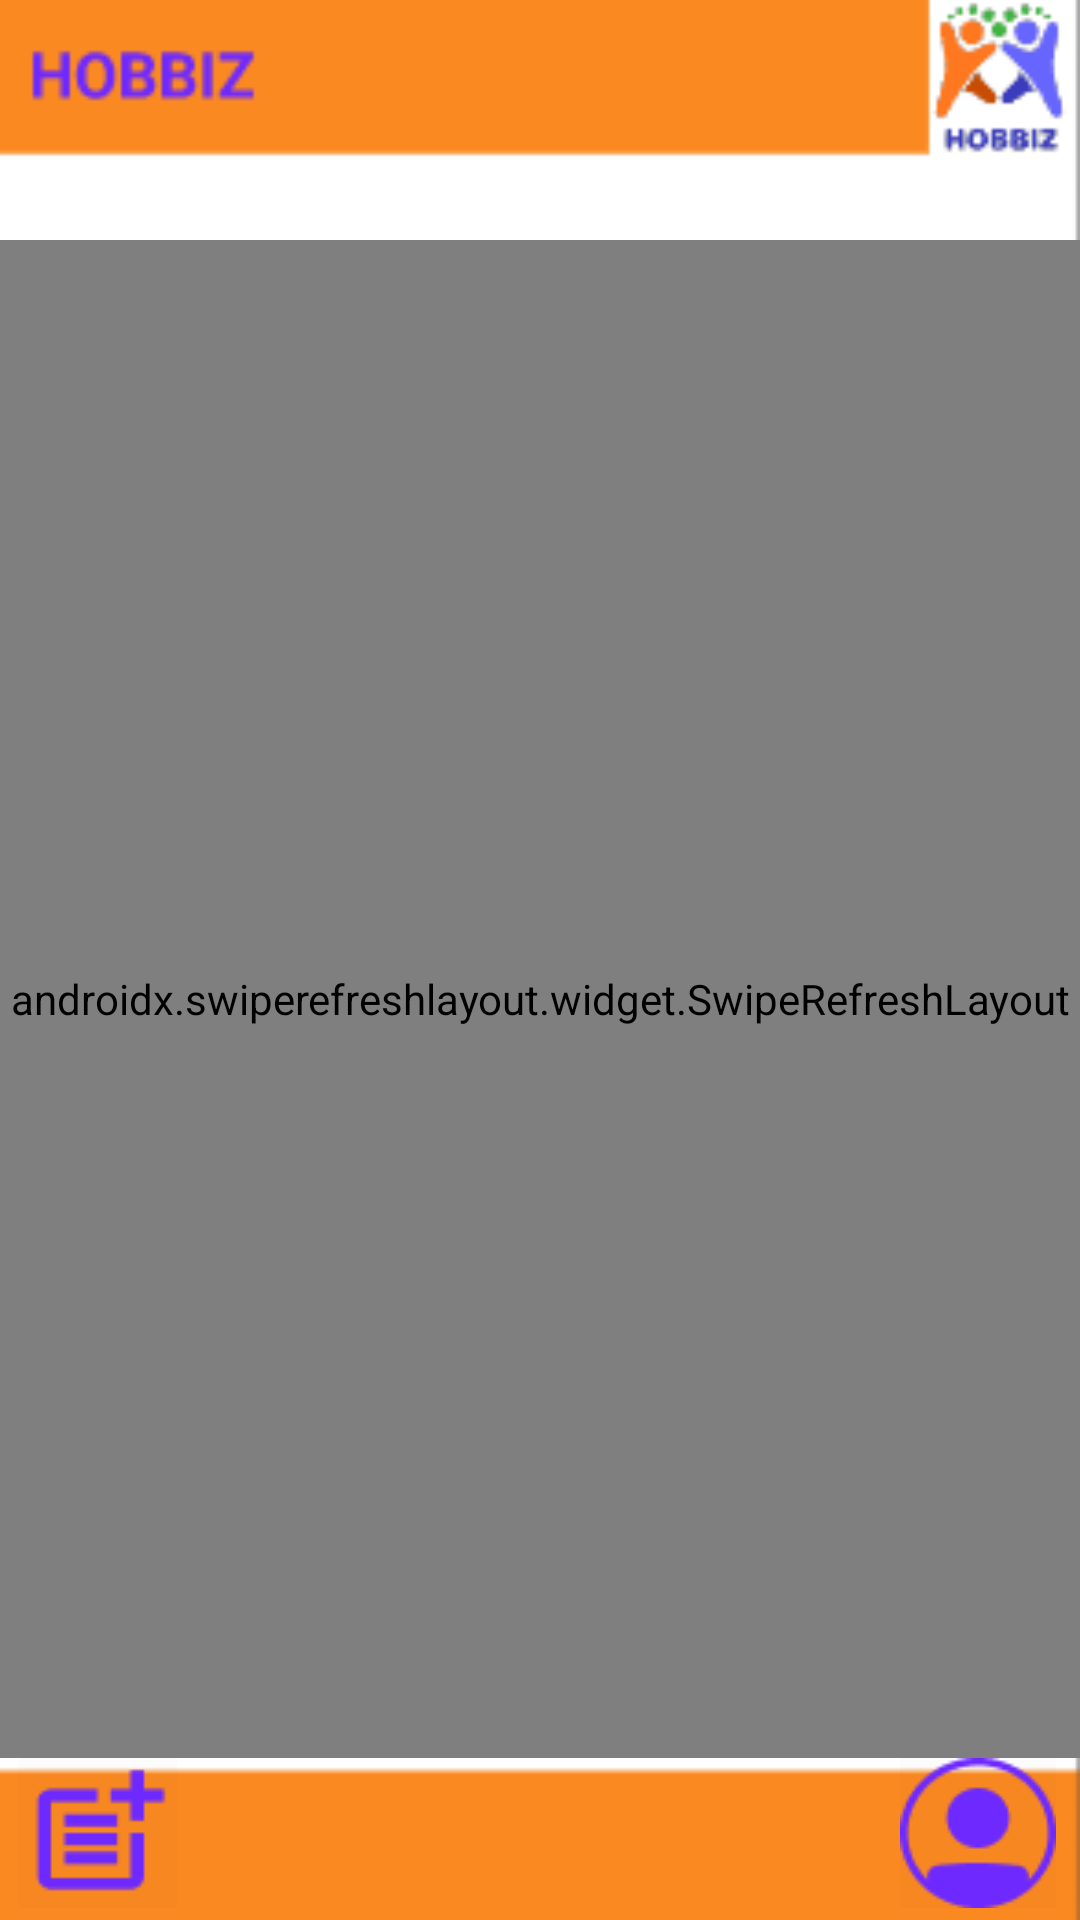

Named icons in this screenshot (1080*1920) and their bounding boxes, (x1, y1, x2, y2):
add post: (35, 1787, 145, 1891)
personalarea: (900, 1758, 1056, 1908)
